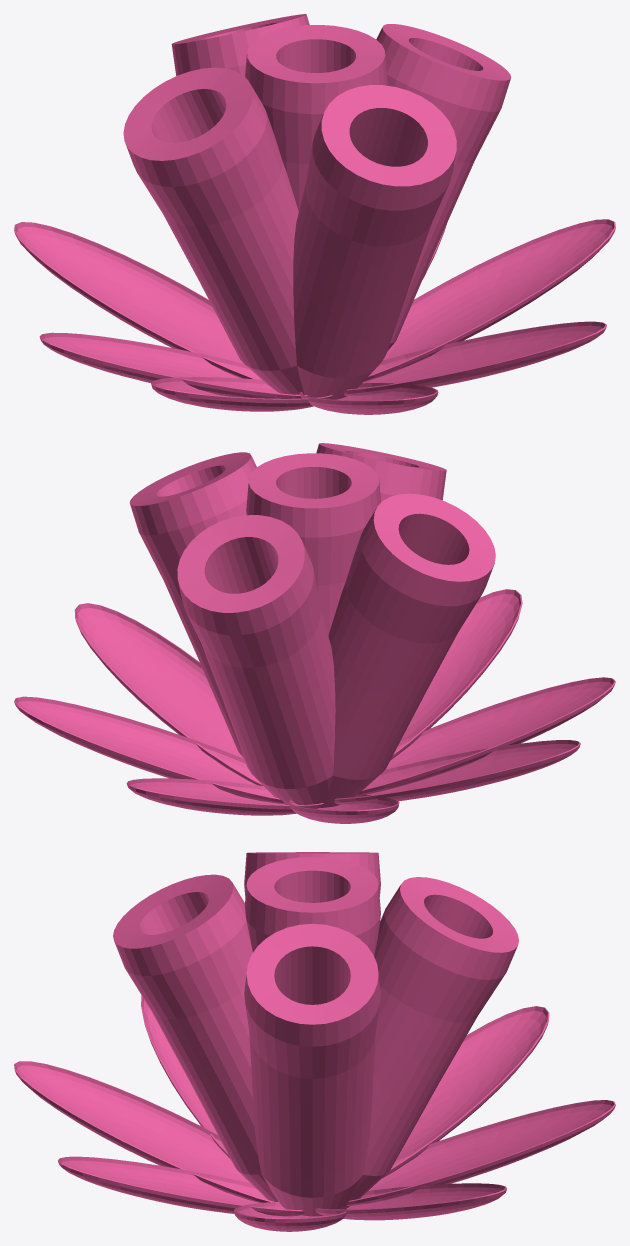
3 views of the same model, one above another, from view 1: azimuth 30°, elevation 25°; view 2: azimuth 150°, elevation 25°; view 3: azimuth 270°, elevation 25° (orthographic). The views are drawn at different scales.
Visible parts, largest first — view 1: Sphere.002; view 2: Sphere.002; view 3: Sphere.002.
Boxes of the visible parts, x1,y1,x2,y2 form: Sphere.002: (14,14,615,414); Sphere.002: (14,443,615,823); Sphere.002: (14,852,615,1231).
Size of the model in its own units: 1.18 by 0.6941 by 1.17.
